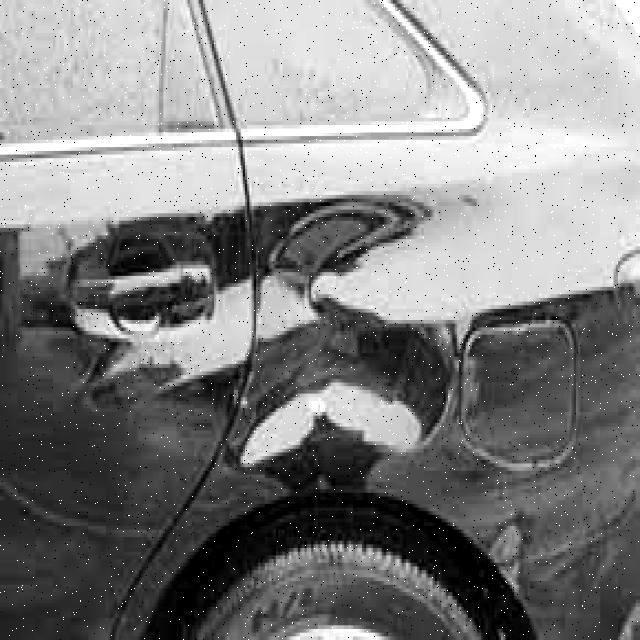quaterpanel-dent: (250, 136, 605, 632)
